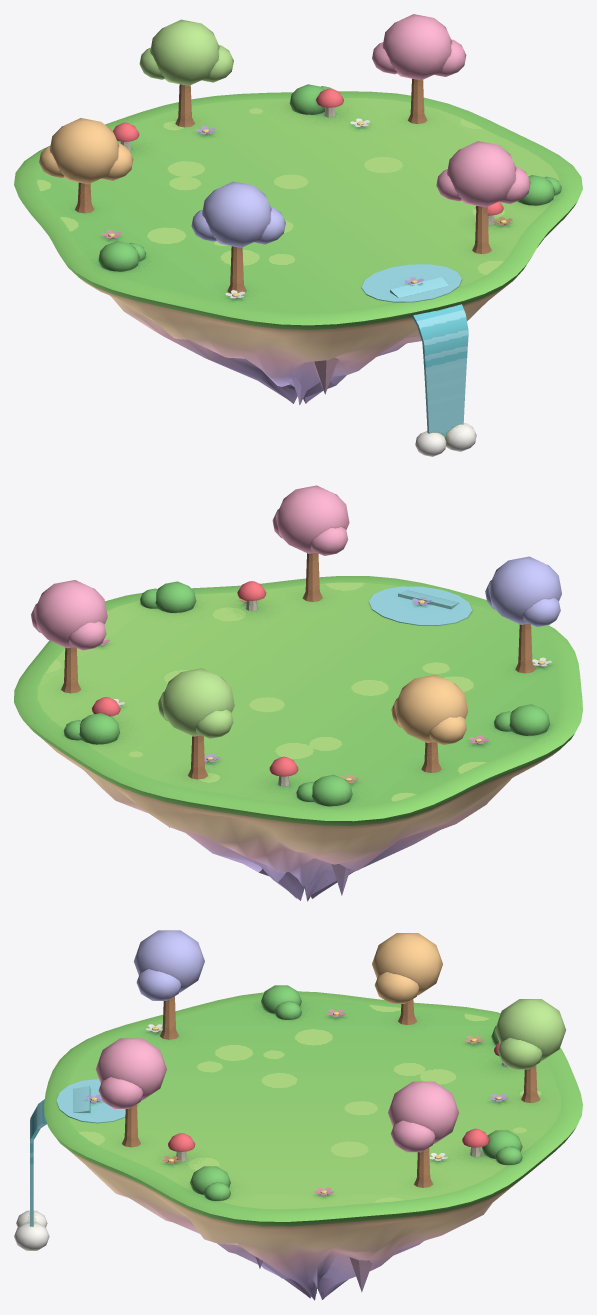
Rendered from dash_island.fbx.
3 views of the same model, one above another, from view 1: azimuth 30°, elevation 25°; view 2: azimuth 150°, elevation 25°; view 3: azimuth 270°, elevation 25° (orthographic). The views are drawn at different scales.
Parts seen in each view (by area): view 1: dash_island; view 2: dash_island; view 3: dash_island.
Part boxes in pixels (bbox=[...]): dash_island: bbox=[14, 14, 582, 456]; dash_island: bbox=[14, 485, 582, 901]; dash_island: bbox=[14, 930, 582, 1300].
Bounding box in the file's own units: 7949 × 4819 × 8297.
Materials: 1 (1 with a texture image).
